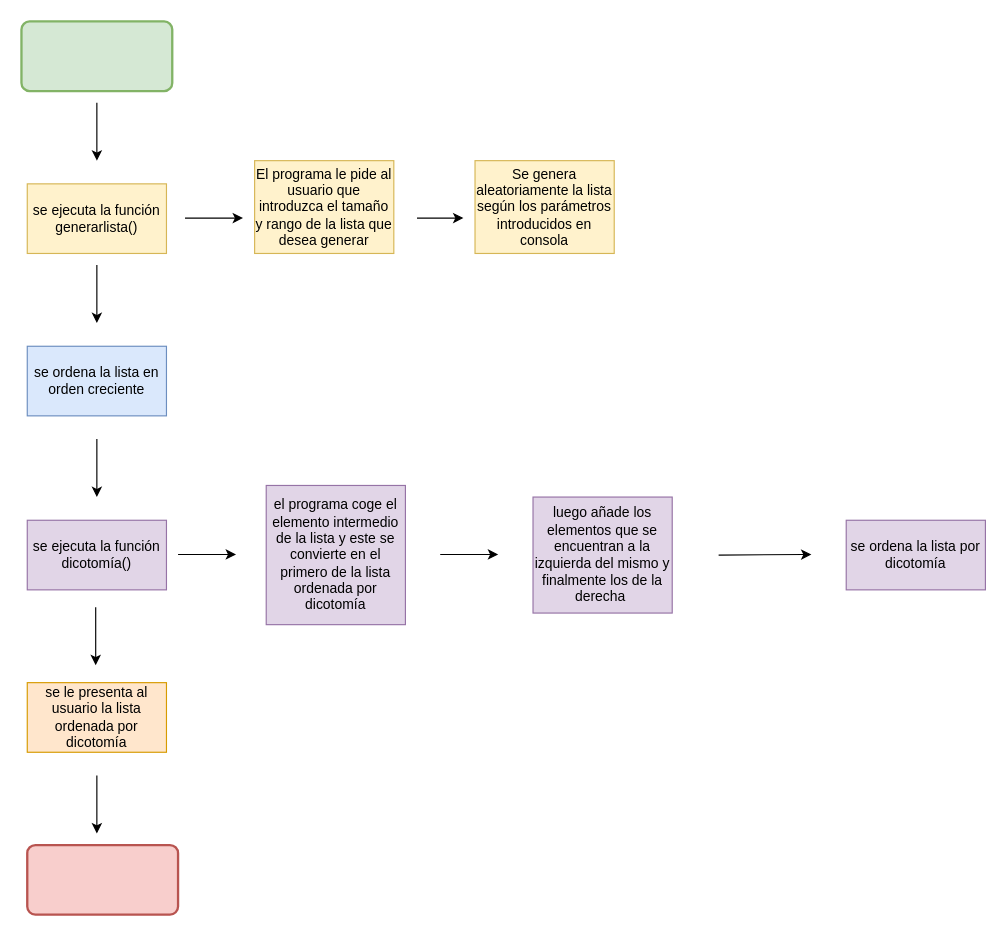
This 1006x935 diagram has some shape labels left out. Each missing label, with the centre of its shape:
"INICIO" belongs at (96,56).
"STOP" belongs at (102,879).
